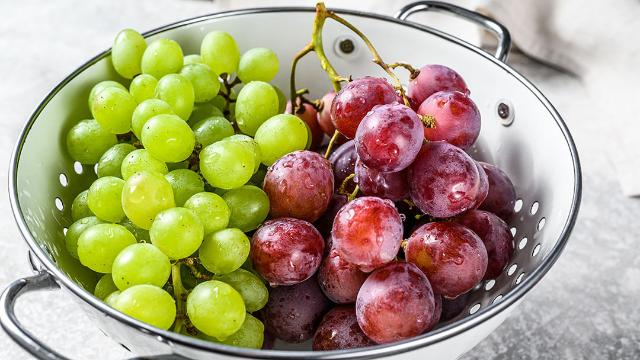Grapes: (66, 28, 308, 346), (256, 59, 516, 350)
